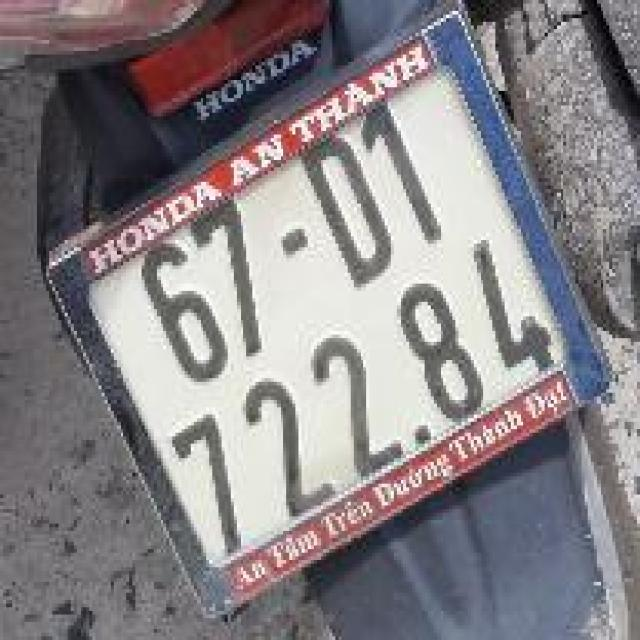1: (349, 76, 468, 271)
2: (299, 311, 419, 496), (234, 358, 351, 536)
4: (455, 218, 572, 409)
6: (125, 216, 245, 407)
7: (174, 182, 300, 378), (150, 396, 270, 575)
8: (380, 260, 502, 440)
D: (285, 110, 406, 301)
